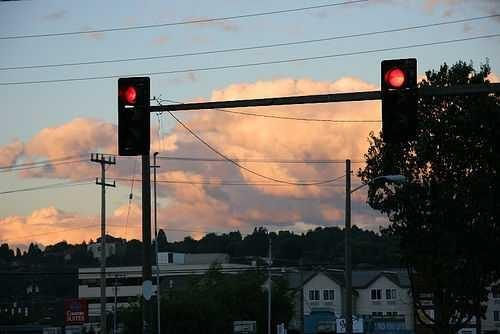red: (383, 59, 418, 137), (117, 77, 149, 157), (386, 61, 415, 93), (118, 78, 145, 105)
